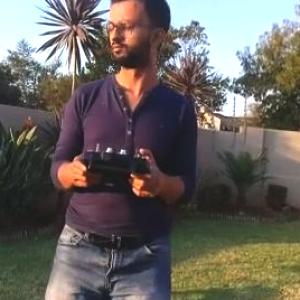follow: (39, 0, 195, 299)
